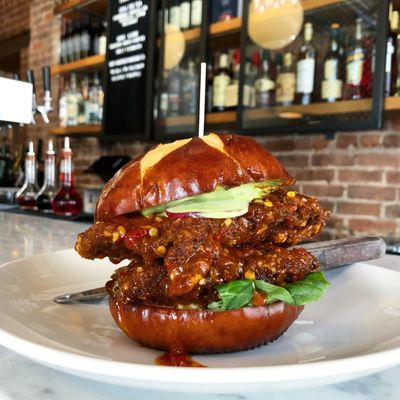soup: (74, 131, 332, 352)
